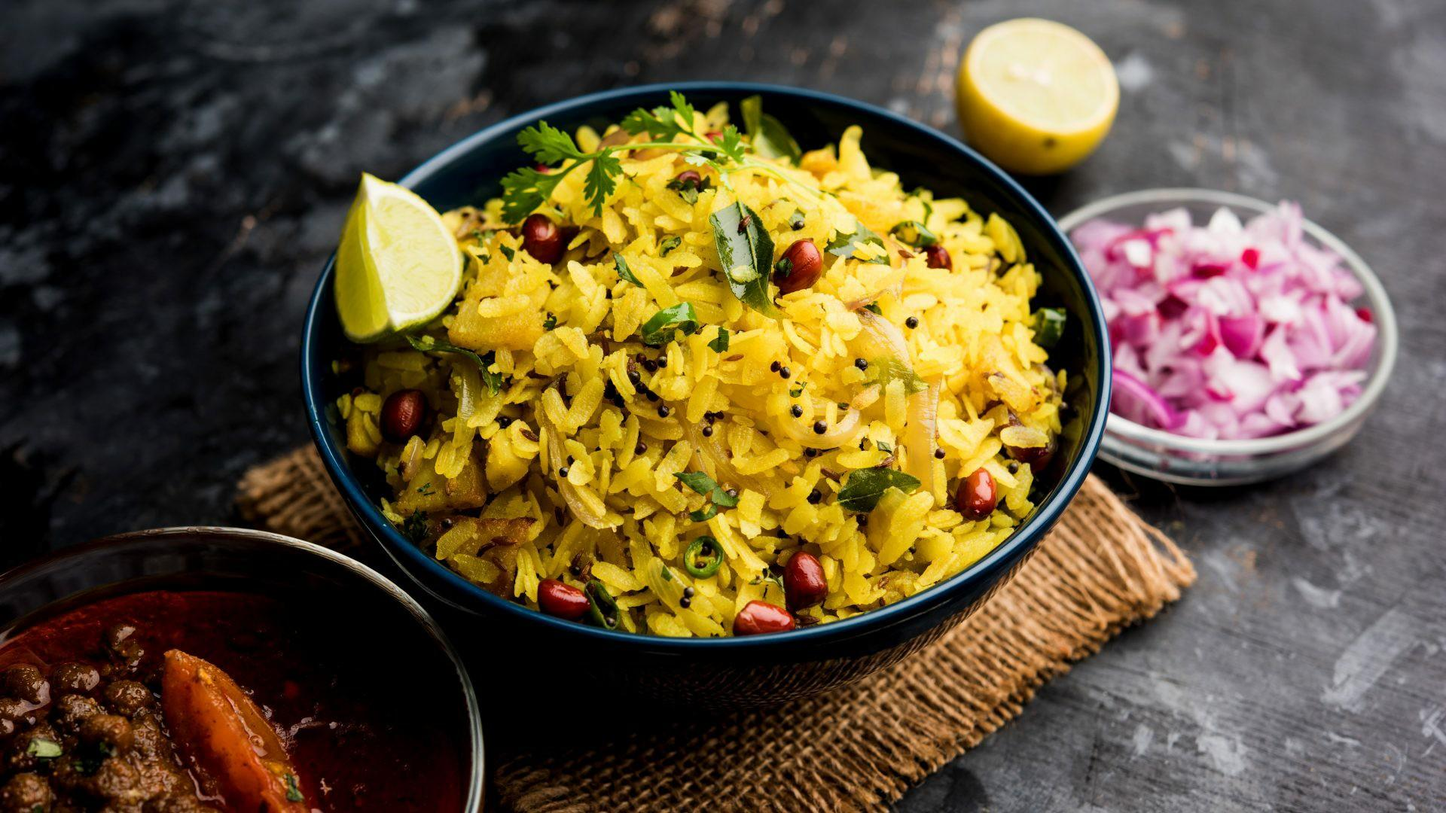Poha: (321, 94, 1066, 627)
